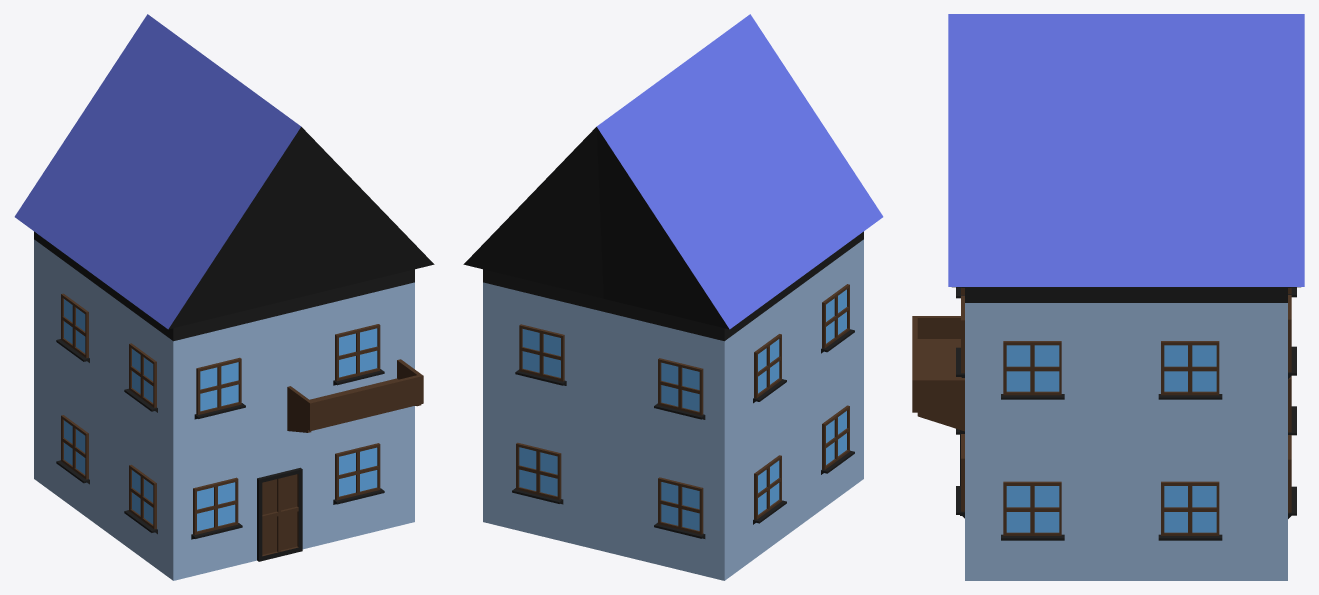
File: cityasset_house_8.fbx
3 renders of one model, left to right at view 1: azimuth 30°, elevation 25°; view 2: azimuth 150°, elevation 25°; view 3: azimuth 270°, elevation 25°, orthographic. The views are drawn at different scales.
Parts seen in each view (by area): view 1: Cube, Cube.014, Cube.011, Cube.013, Cube.002, Cube.001, Cube.012, Cube.016, Cube.017, Cube.018, Cube.019; view 2: Cube, Cube.022, Cube.020, Cube.021, Cube.023, Cube.017, Cube.018, Cube.019, Cube.016; view 3: Cube, Cube.014, Cube.015, Cube.005, Cube.004, Cube.003.
Part boxes in pixels (x1,y1,x2,y2): Cube: [14, 14, 434, 580]; Cube.014: [287, 359, 423, 432]; Cube.011: [257, 467, 302, 561]; Cube.013: [333, 443, 384, 504]; Cube.002: [194, 357, 245, 419]; Cube.001: [333, 324, 384, 385]; Cube.012: [191, 477, 242, 539]; Cube.016: [56, 293, 89, 362]; Cube.017: [124, 343, 157, 412]; Cube.018: [56, 415, 89, 484]; Cube.019: [124, 464, 157, 534]; Cube: [463, 14, 883, 580]; Cube.022: [654, 358, 705, 419]; Cube.020: [512, 442, 563, 504]; Cube.021: [654, 477, 705, 538]; Cube.023: [515, 324, 566, 385]; Cube.017: [821, 284, 854, 353]; Cube.018: [753, 455, 786, 524]; Cube.019: [821, 405, 854, 474]; Cube.016: [753, 334, 786, 403]; Cube: [948, 14, 1304, 580]; Cube.014: [912, 316, 964, 431]; Cube.015: [1158, 481, 1222, 540]; Cube.005: [1001, 481, 1064, 540]; Cube.004: [1158, 341, 1222, 399]; Cube.003: [1001, 341, 1064, 399].
Size of the model in its own units: 221 by 340 by 243.
